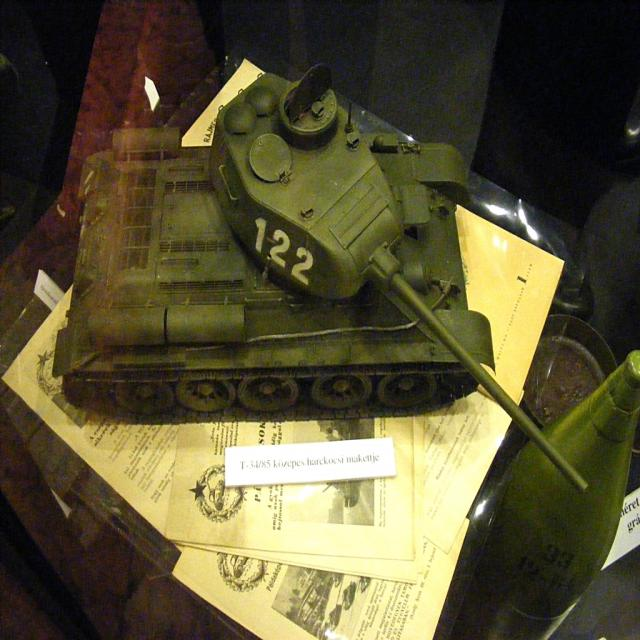tank: (52, 58, 590, 491)
